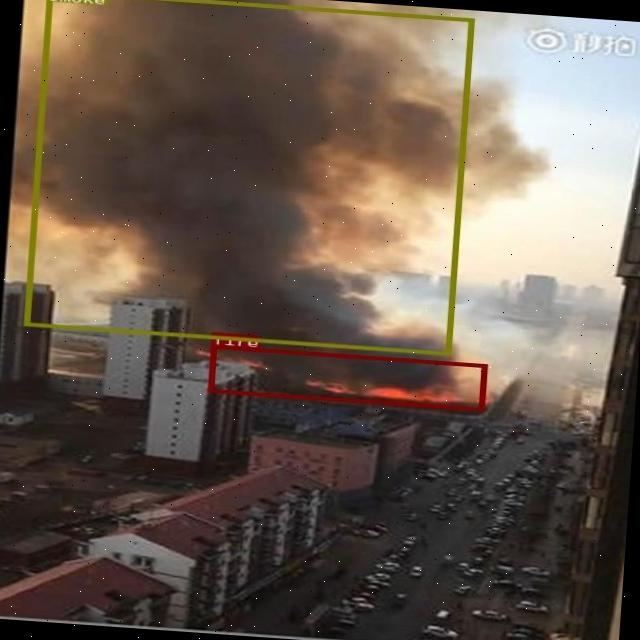fire: (206, 344, 486, 410)
smoke: (21, 0, 472, 354)
